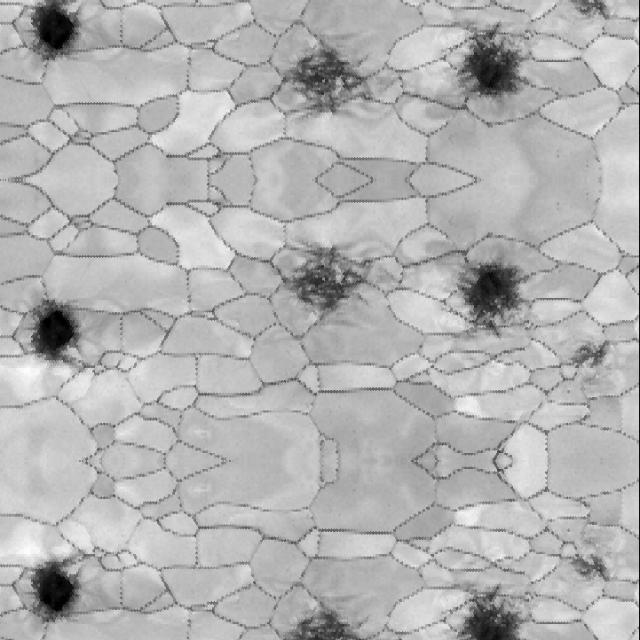good_void: (280, 237, 388, 329), (280, 29, 388, 121), (442, 247, 527, 333), (442, 25, 527, 111), (24, 288, 88, 377), (24, 544, 88, 632), (280, 592, 385, 640), (24, 0, 88, 70), (442, 588, 527, 640), (563, 334, 619, 373), (563, 548, 619, 587), (563, 0, 619, 24), (564, 525, 572, 534), (564, 387, 572, 395)
